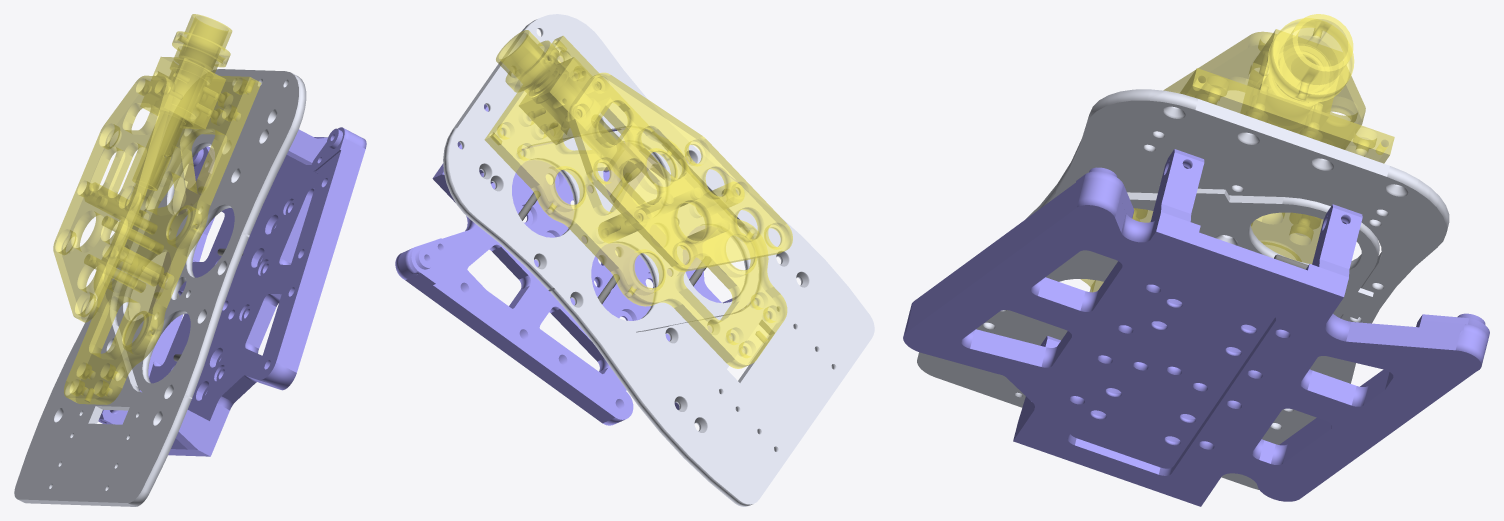
The model's file is link3_blender.dae.
3 views of the same model, side by side, from view 1: azimuth 30°, elevation 25°; view 2: azimuth 150°, elevation 25°; view 3: azimuth 270°, elevation 25° (orthographic). The views are drawn at different scales.
Visible parts, largest first — view 1: Actor5, Actor6, Actor13, Actor12, Actor0, Actor10, Actor11, Actor14, Actor8, Actor9, Actor7, Actor15; view 2: Actor5, Actor13, Actor6, Actor12, Actor0, Actor10, Actor11, Actor15, Actor14; view 3: Actor6, Actor5, Actor13, Actor0, Actor10, Actor12, Actor11.
Boxes of the visible parts, bbox=[...] form: Actor5: bbox=[14, 69, 306, 506]; Actor6: bbox=[98, 127, 366, 456]; Actor13: bbox=[64, 75, 261, 404]; Actor12: bbox=[53, 75, 175, 322]; Actor0: bbox=[116, 133, 237, 392]; Actor10: bbox=[132, 14, 232, 190]; Actor11: bbox=[140, 57, 225, 129]; Actor14: bbox=[110, 245, 164, 286]; Actor8: bbox=[105, 218, 163, 253]; Actor9: bbox=[87, 256, 145, 292]; Actor7: bbox=[99, 198, 156, 233]; Actor15: bbox=[84, 182, 138, 223]; Actor5: bbox=[443, 14, 874, 506]; Actor13: bbox=[484, 36, 787, 368]; Actor6: bbox=[395, 56, 755, 425]; Actor12: bbox=[567, 72, 792, 271]; Actor0: bbox=[505, 130, 758, 332]; Actor10: bbox=[496, 30, 644, 183]; Actor11: bbox=[519, 57, 610, 144]; Actor15: bbox=[598, 208, 646, 243]; Actor14: bbox=[695, 182, 744, 216]; Actor6: bbox=[903, 149, 1489, 506]; Actor5: bbox=[917, 89, 1449, 489]; Actor13: bbox=[1080, 68, 1394, 292]; Actor0: bbox=[1044, 188, 1379, 335]; Actor10: bbox=[1268, 14, 1354, 103]; Actor12: bbox=[1163, 31, 1365, 149]; Actor11: bbox=[1240, 29, 1343, 133].
Bounding box in the file's own units: 0.0919 × 0.1108 × 0.1281.
